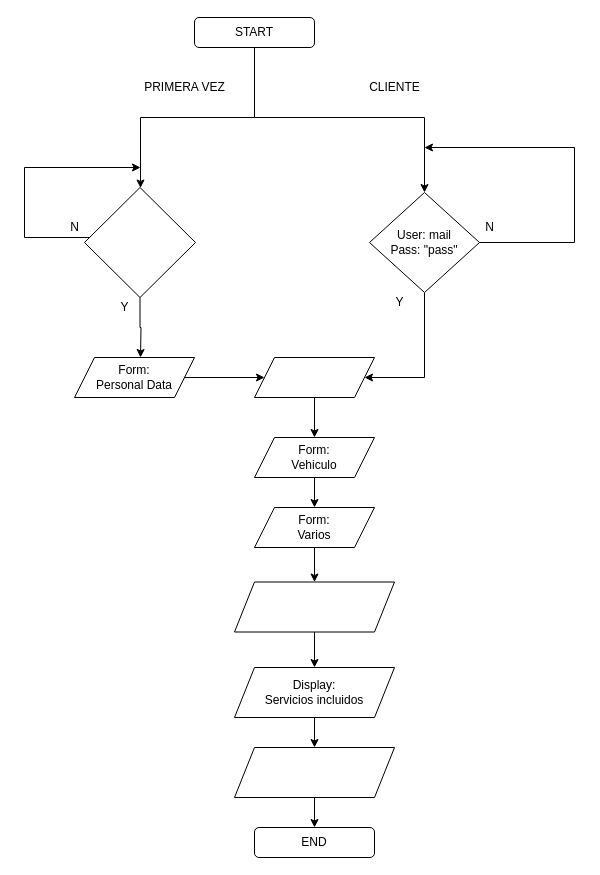
This 600x875 diagram has some shape labels left out. Here are the shapes that lost their labels. From the top down, the centre of each, then its label:
At pixel 140 242: "User:Cod.Rva Pass: Apellido".
At pixel 314 377: "Form: Acompañantes".
At pixel 314 606: "Display: Informacion Reserva".
At pixel 314 772: "Aceptacion Terminos y condiciones".
